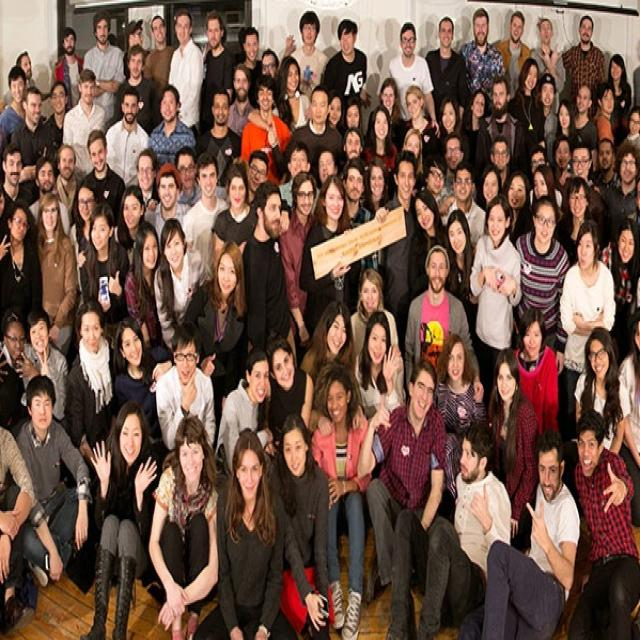body: (384, 414, 515, 638), (460, 426, 580, 640), (188, 424, 301, 638), (354, 352, 448, 598), (77, 395, 162, 638), (306, 356, 376, 638), (146, 411, 227, 638), (10, 370, 94, 588), (564, 404, 639, 638), (64, 296, 124, 565), (180, 237, 250, 457), (403, 242, 486, 409), (274, 409, 334, 640), (558, 215, 618, 441), (467, 191, 523, 422), (478, 349, 540, 557), (373, 147, 420, 409), (240, 178, 300, 376), (512, 193, 572, 379), (432, 331, 489, 524), (298, 172, 356, 350), (298, 296, 367, 438), (110, 314, 177, 446), (262, 80, 345, 182), (215, 344, 279, 476), (152, 215, 212, 355), (154, 319, 217, 452), (572, 325, 632, 457), (33, 190, 80, 358), (0, 417, 36, 635), (278, 169, 320, 352), (341, 154, 383, 322), (77, 197, 131, 325), (0, 196, 45, 347), (387, 19, 442, 142), (511, 304, 561, 439), (238, 72, 294, 190), (166, 6, 207, 166), (14, 306, 69, 424), (262, 334, 314, 457), (600, 215, 640, 368), (180, 151, 230, 272), (352, 307, 406, 419), (10, 82, 58, 208), (405, 184, 448, 324), (505, 54, 546, 198), (614, 309, 640, 532), (71, 127, 128, 228), (556, 13, 608, 119), (442, 207, 481, 345), (192, 86, 244, 189), (81, 8, 127, 124), (123, 220, 163, 353), (348, 266, 400, 368), (210, 162, 260, 268), (423, 14, 469, 129), (123, 218, 163, 350), (104, 83, 152, 188), (62, 67, 107, 178), (458, 5, 507, 106), (0, 305, 37, 436), (112, 42, 162, 138), (142, 159, 193, 253), (198, 8, 235, 134), (69, 177, 106, 301), (322, 16, 370, 108), (148, 83, 198, 170), (602, 138, 640, 251), (459, 88, 495, 207), (531, 131, 594, 199), (173, 143, 228, 220), (557, 174, 599, 269), (491, 8, 533, 102), (110, 181, 149, 282), (528, 16, 567, 116), (273, 52, 314, 146), (172, 145, 230, 210), (394, 83, 442, 161), (26, 154, 70, 239), (289, 10, 330, 100), (445, 159, 487, 244), (49, 25, 86, 118), (484, 73, 520, 167), (366, 75, 410, 151), (40, 80, 72, 183), (568, 80, 600, 182), (278, 140, 320, 215), (50, 140, 84, 229), (362, 104, 402, 175), (528, 72, 562, 154), (426, 94, 462, 170), (142, 11, 177, 88), (0, 142, 35, 215), (417, 151, 455, 218), (500, 169, 533, 245), (225, 61, 258, 136), (607, 51, 633, 145), (0, 64, 29, 146), (118, 14, 150, 86), (627, 58, 640, 232), (359, 161, 394, 223), (134, 144, 164, 214), (240, 24, 264, 110), (590, 135, 623, 191), (487, 130, 514, 198), (441, 132, 466, 193), (594, 79, 617, 145), (476, 164, 506, 213), (555, 97, 580, 155), (247, 148, 271, 204), (396, 128, 423, 174), (315, 146, 340, 188), (14, 48, 36, 89), (259, 46, 281, 86), (342, 97, 364, 137), (342, 126, 363, 164), (325, 88, 344, 129)
